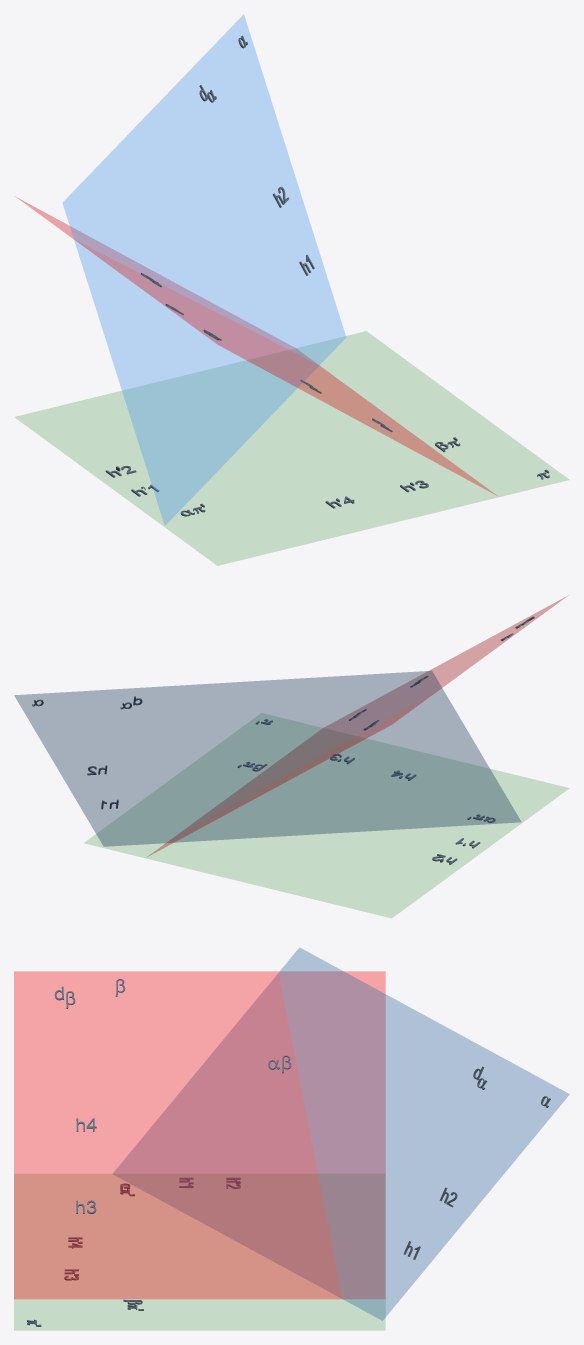
The model's file is int_pq_pq.glb.
The picture shows the model from 3 angles, top to bottom: view 1: azimuth 30°, elevation 25°; view 2: azimuth 150°, elevation 25°; view 3: azimuth 270°, elevation 25°; orthographic projection. The views are drawn at different scales.
Parts seen in each view (by area): view 1: root; view 2: root; view 3: root.
Boxes of the visible parts, <box> form: root: <box>15,14,568,565</box>; root: <box>14,596,569,918</box>; root: <box>14,947,569,1330</box>.
Size of the model in its own units: 2.54 by 1.71 by 3.8.
